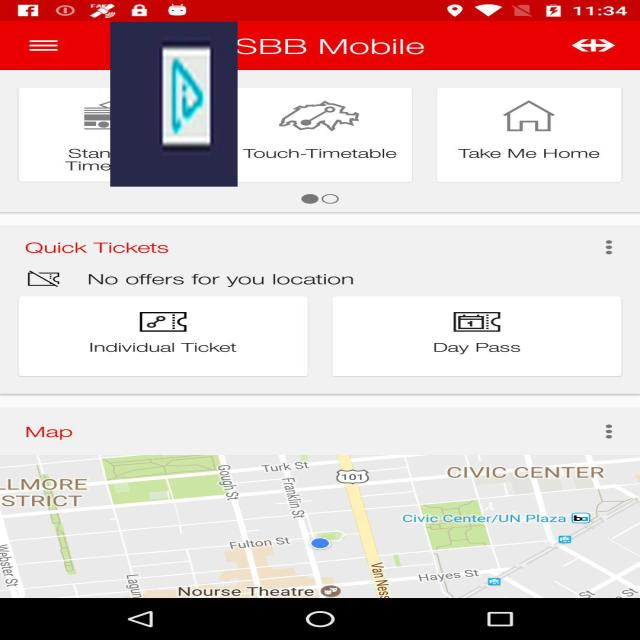sneaking: (110, 22, 238, 186)
